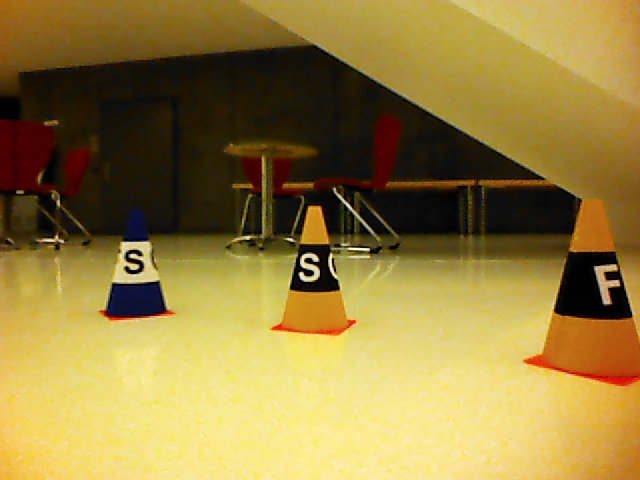bluecone: (106, 209, 168, 318)
yellowcone: (543, 199, 640, 379), (284, 204, 347, 331)
